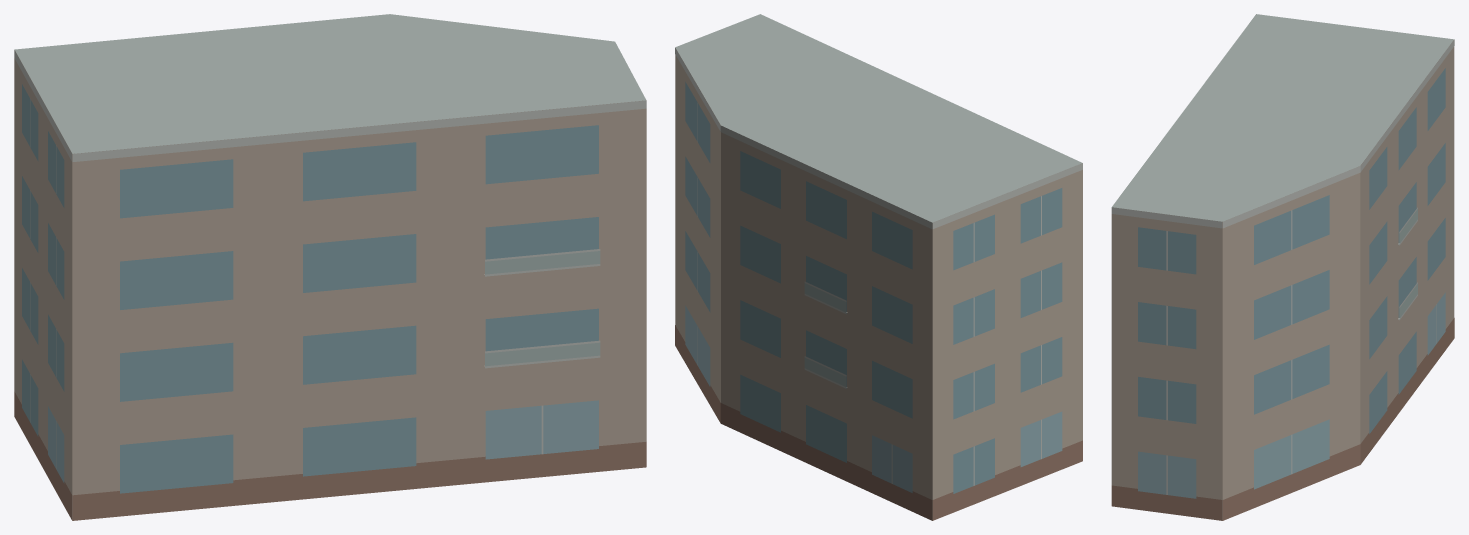
File: survey-upis-32878548.glb
The picture shows the model from 3 angles, left to right: view 1: azimuth 30°, elevation 25°; view 2: azimuth 150°, elevation 25°; view 3: azimuth 270°, elevation 25°; orthographic projection. The views are drawn at different scales.
Parts seen in each view (by area): view 1: survey-upis-32878548.tmp; view 2: survey-upis-32878548.tmp; view 3: survey-upis-32878548.tmp.
Boxes of the visible parts, x1,y1,x2,y2 form: survey-upis-32878548.tmp: [14, 14, 646, 520]; survey-upis-32878548.tmp: [675, 14, 1082, 520]; survey-upis-32878548.tmp: [1111, 14, 1454, 520].
Bounding box in the file's own units: 16.09 × 10.8 × 11.22.
